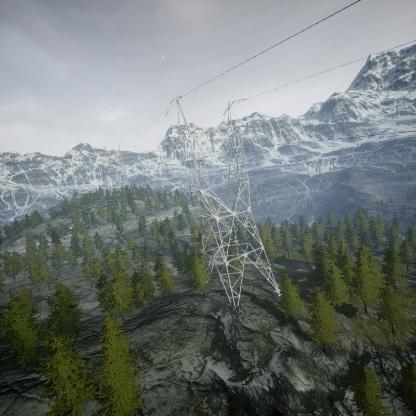tower: (162, 96, 282, 309)
